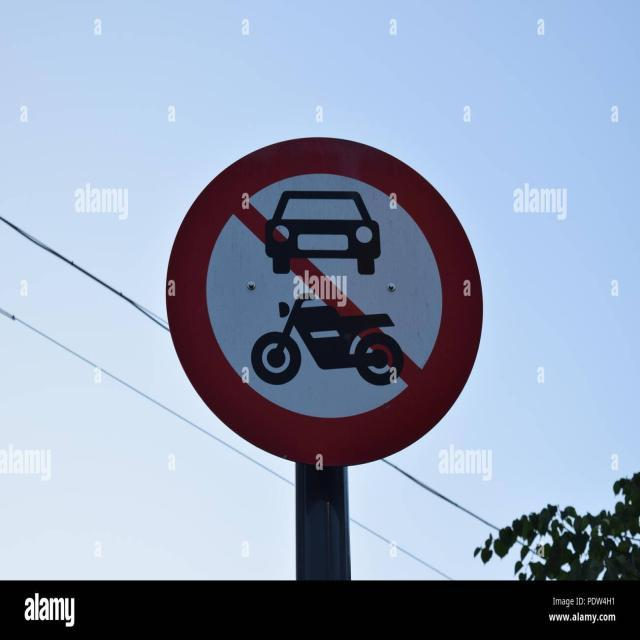all motor vehicle prohibited: (156, 131, 495, 484)
